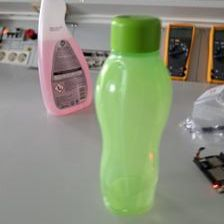bottle: (94, 13, 176, 214)
